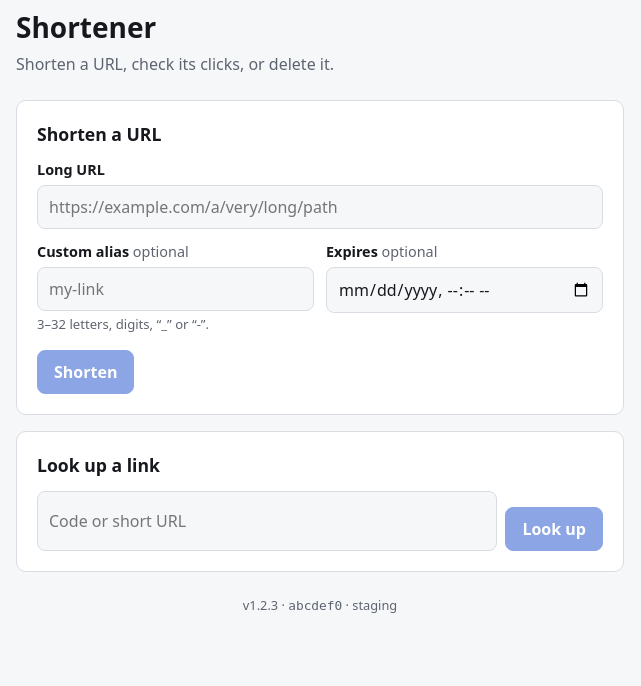
looking up a link › says so when the code does not exist
Type "nope" into the field named "Short code or URL" at point(267, 521), box [37, 491, 497, 551]
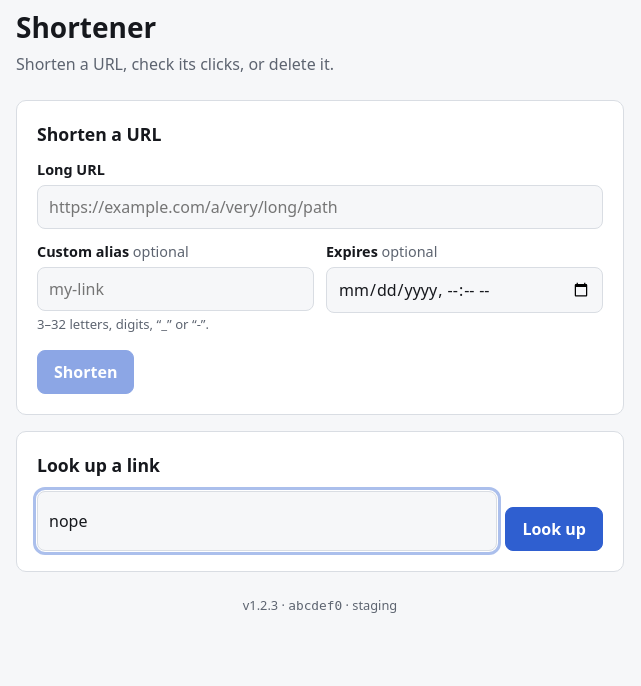
Click the button "Look up" at point(554, 529), box [505, 507, 603, 551]
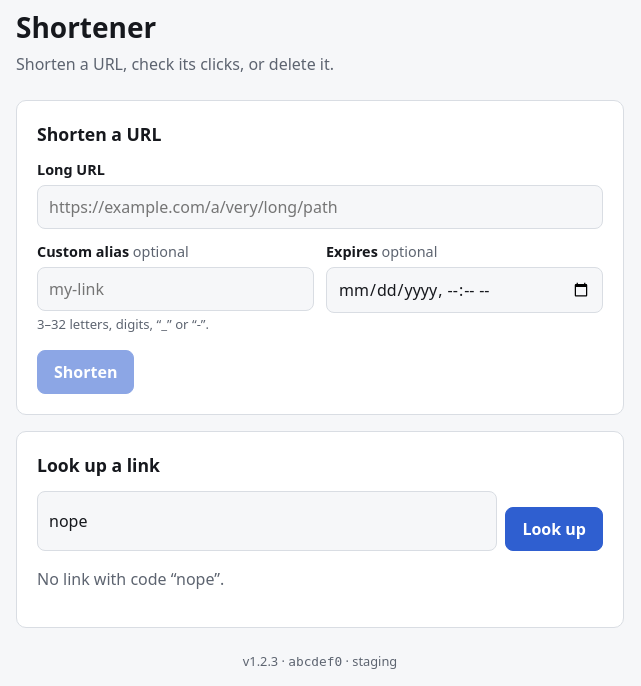
Expected: the text "No link with code “nope”." is shown, [37, 568, 224, 590]
